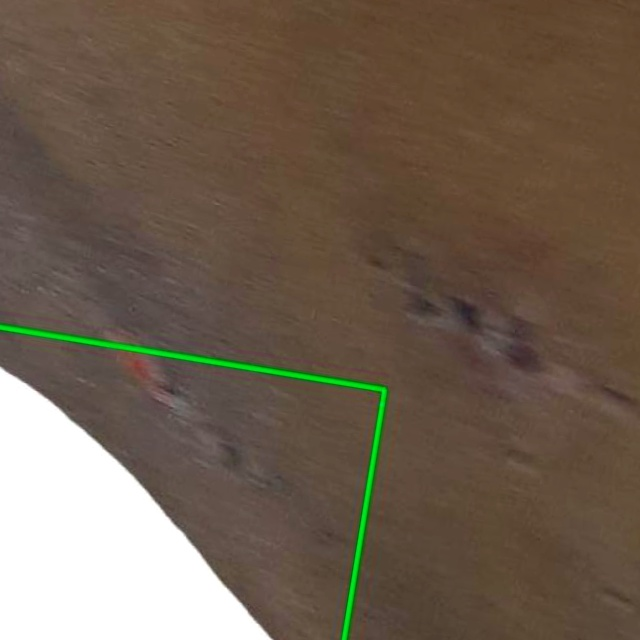Contact Dermatitis: (0, 327, 384, 639)
